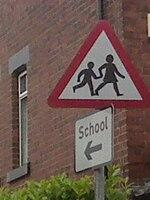School Ahead: (54, 17, 135, 103)
